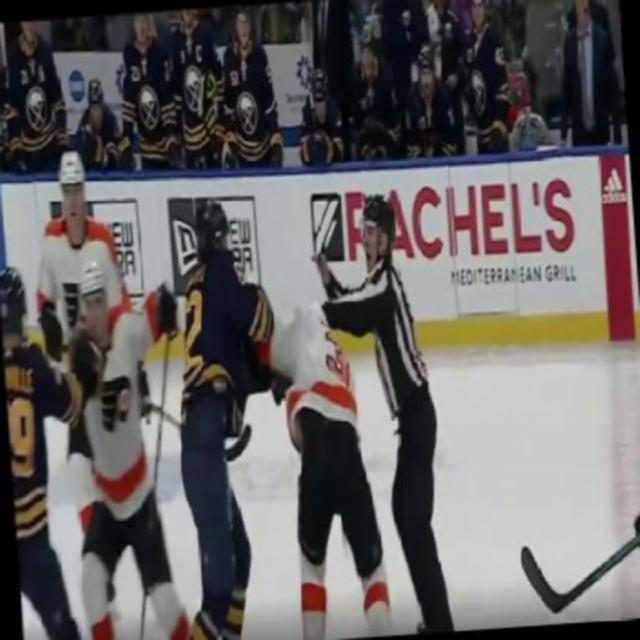fight: (165, 191, 392, 638)
non-fight: (40, 256, 200, 635)
